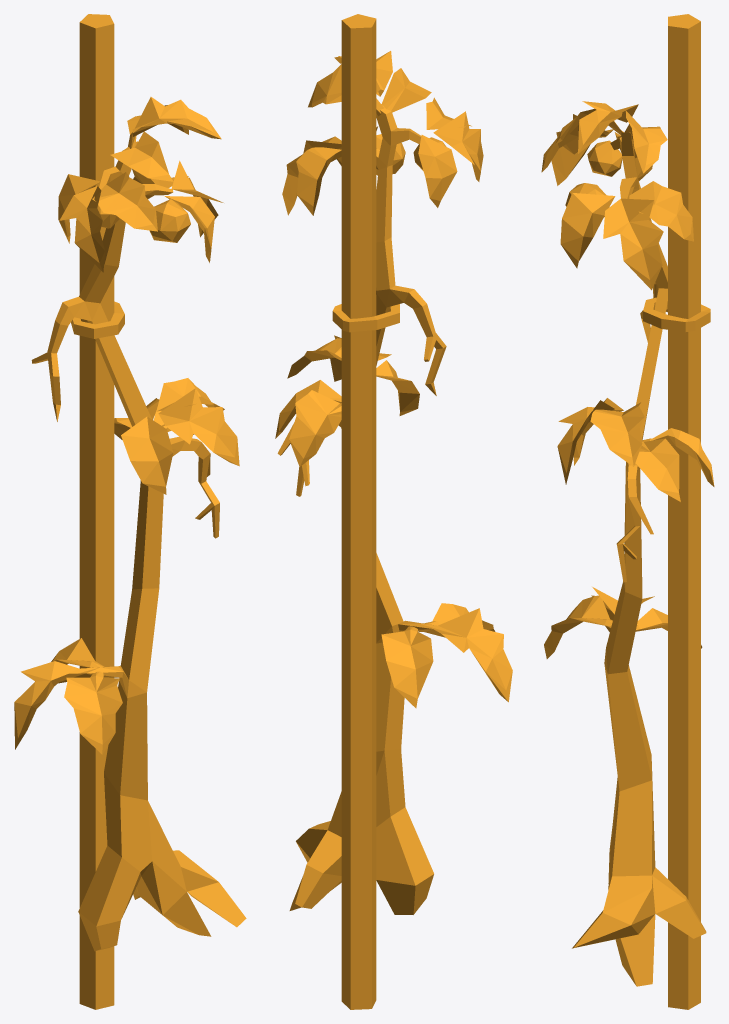
The model's file is SM_Tomato_Harvested_Single_A.fbx.
The picture shows the model from 3 angles, left to right: view 1: azimuth 30°, elevation 25°; view 2: azimuth 150°, elevation 25°; view 3: azimuth 270°, elevation 25°; orthographic projection.
Visible parts, largest first — view 1: tomato-harvested-single-a; view 2: tomato-harvested-single-a; view 3: tomato-harvested-single-a.
Boxes of the visible parts, left/top/right/bottom form: tomato-harvested-single-a: left=14, top=14, right=246, bottom=1009; tomato-harvested-single-a: left=275, top=14, right=512, bottom=1009; tomato-harvested-single-a: left=541, top=14, right=714, bottom=1009.
Size of the model in its own units: 0.3662 by 1.61 by 0.2579.
